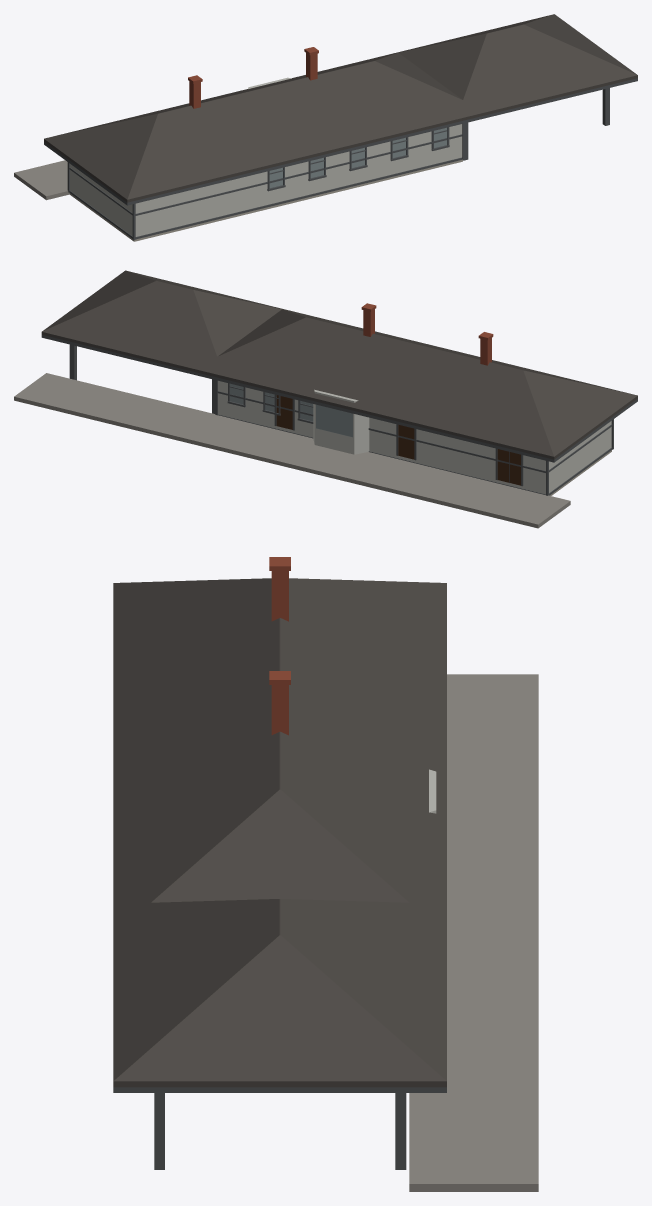
Rendered from Slinger_Depot.glb.
3 views of the same model, one above another, from view 1: azimuth 30°, elevation 25°; view 2: azimuth 150°, elevation 25°; view 3: azimuth 270°, elevation 25° (orthographic). The views are drawn at different scales.
Visible parts, largest first — view 1: roof, walls, trim, platform, foundation, glass, sash, chimney; view 2: roof, platform, walls, trim, doors, glass, chimney, sash; view 3: roof, platform, trim, chimney.
Part boxes in pixels (x1,y1,x2,y2): roof: (44, 14, 637, 202); walls: (70, 77, 462, 236); trim: (44, 78, 637, 239); platform: (14, 160, 69, 200); foundation: (69, 159, 462, 241); glass: (270, 128, 446, 187); sash: (267, 127, 449, 191); chimney: (188, 47, 318, 108); roof: (41, 270, 637, 459); platform: (14, 373, 570, 528); walls: (218, 380, 611, 494); trim: (41, 335, 637, 495); doors: (276, 395, 520, 485); glass: (230, 384, 352, 436); chimney: (361, 303, 493, 365); sash: (227, 383, 313, 423); roof: (113, 578, 446, 1087); platform: (409, 674, 538, 1191); trim: (113, 1087, 446, 1169); chimney: (269, 557, 290, 735).
Bounding box in the file's own units: 1.18 × 0.2523 × 0.4152.
